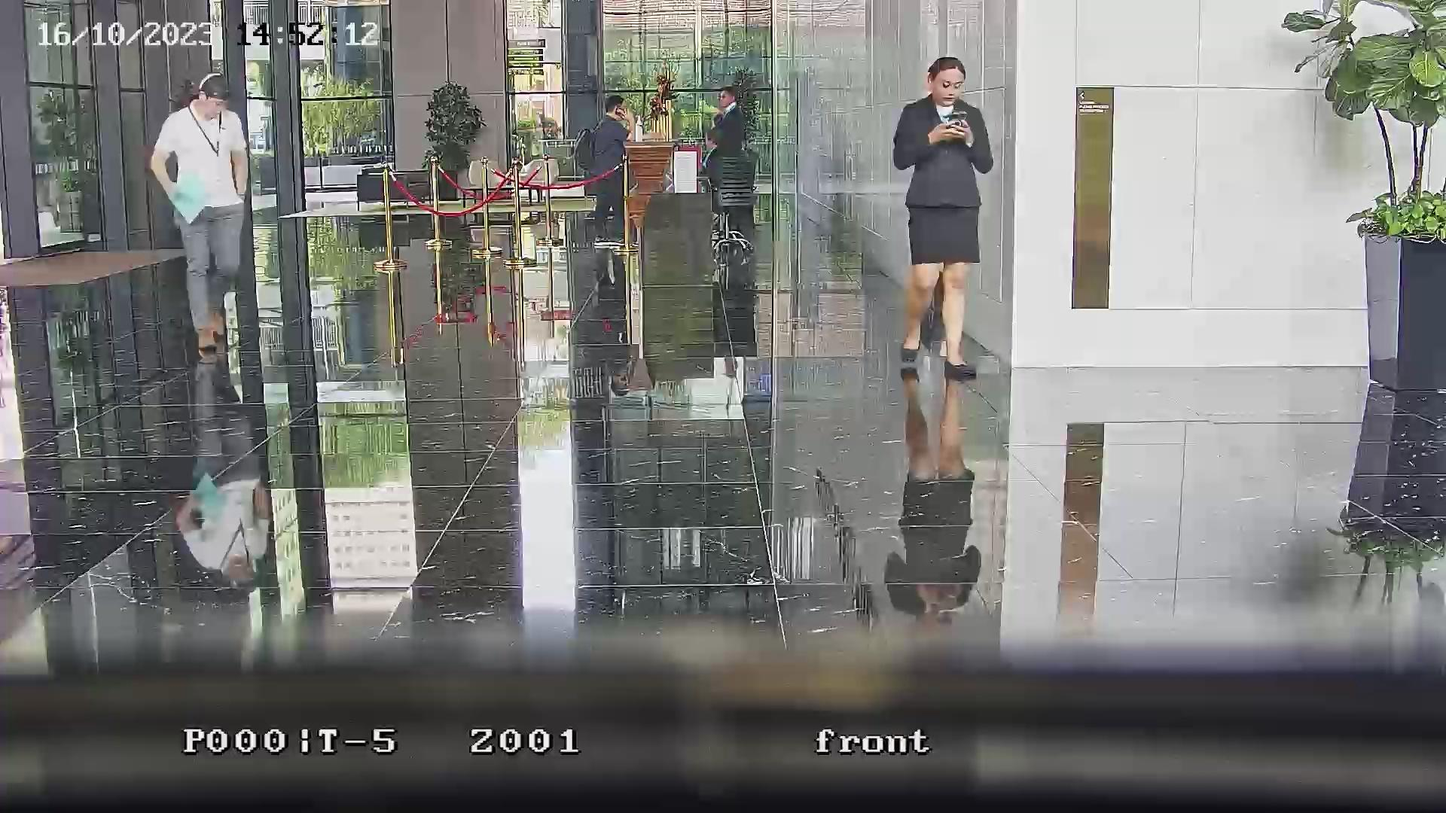person: (892, 55, 993, 381), (149, 73, 251, 361), (701, 83, 759, 248), (578, 100, 635, 246)
